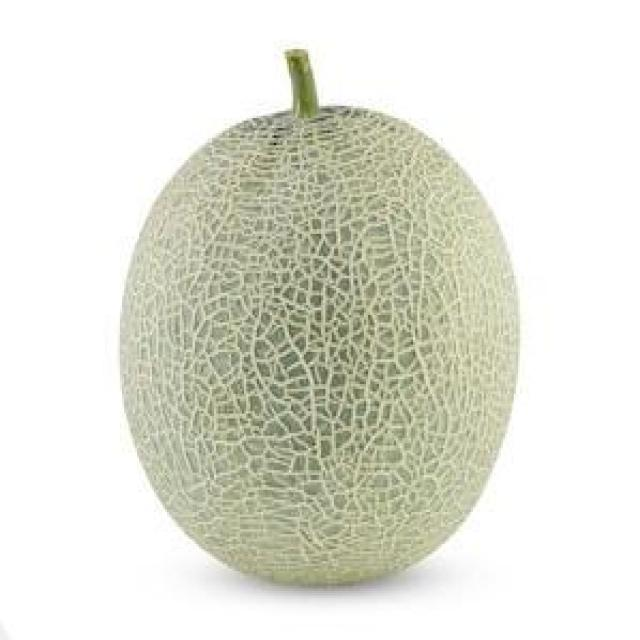cantaloupe: (119, 48, 520, 586)
